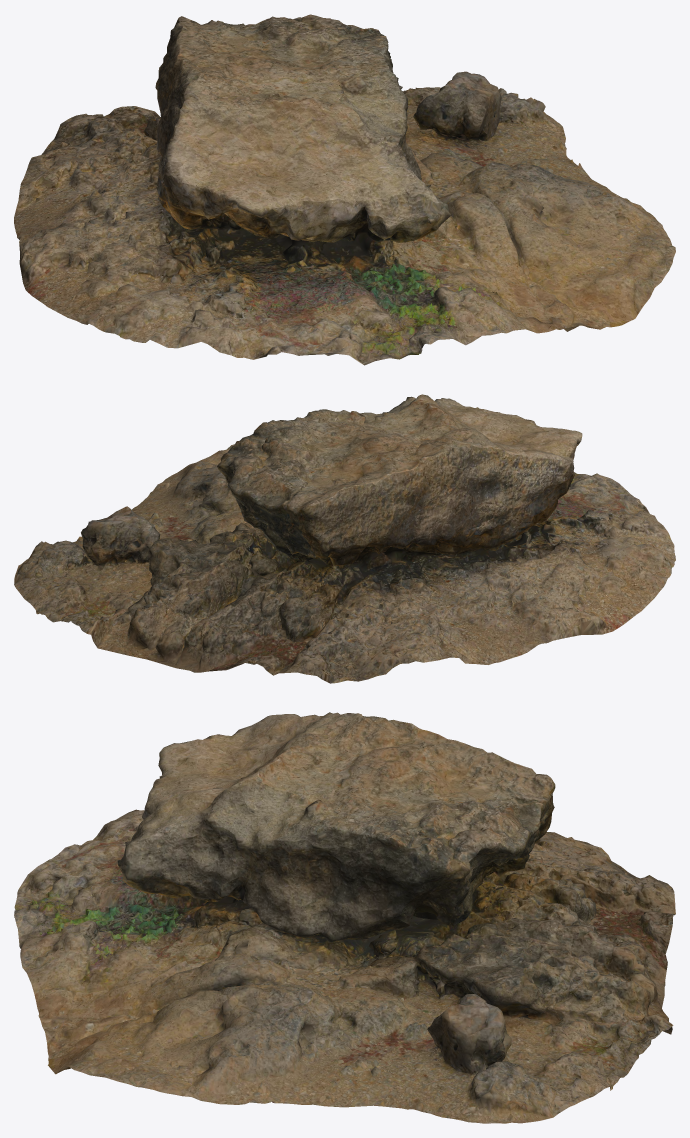
The model's file is rocks.glb.
3 renders of one model, top to bottom at view 1: azimuth 30°, elevation 25°; view 2: azimuth 150°, elevation 25°; view 3: azimuth 270°, elevation 25°, orthographic. The views are drawn at different scales.
Parts seen in each view (by area): view 1: coast_rocks_05_LOD0; view 2: coast_rocks_05_LOD0; view 3: coast_rocks_05_LOD0.
Boxes of the visible parts, <box> form: coast_rocks_05_LOD0: <box>14,14,675,365</box>; coast_rocks_05_LOD0: <box>14,394,675,683</box>; coast_rocks_05_LOD0: <box>14,712,675,1123</box>.
Size of what is drawn, in the model's own units: 3.04 by 0.9987 by 2.82.
Materials: 1 (1 with a texture image).
